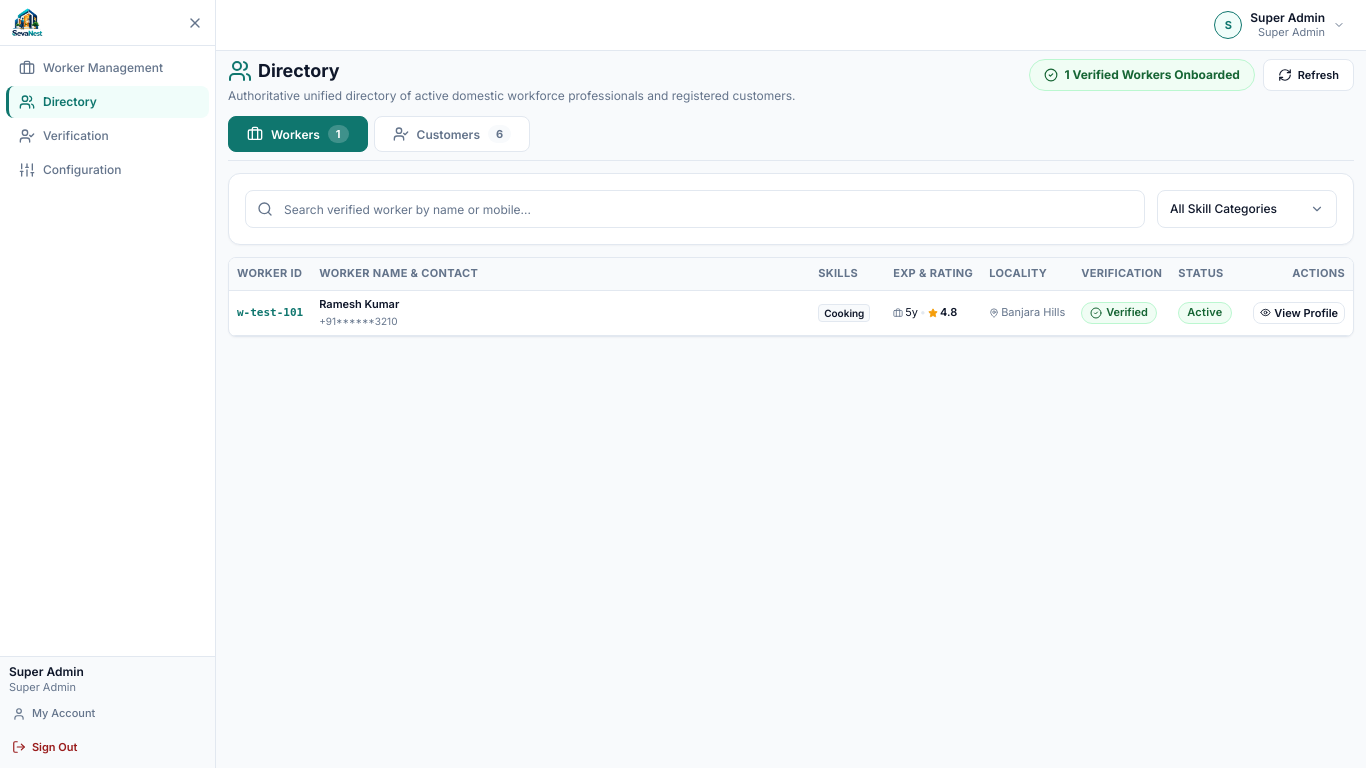
Worker Profile Navigation & History Preservation › 1. Directory → Worker Profile → Profile Tab (Their Work) → Verification Dossier → Application Back button returns to the same profile tab
The image size is (1366, 768).
# Find worker row and click View Profile
Click the button with aria-label "View Profile" at (791, 313), box [229,291,1353,335]
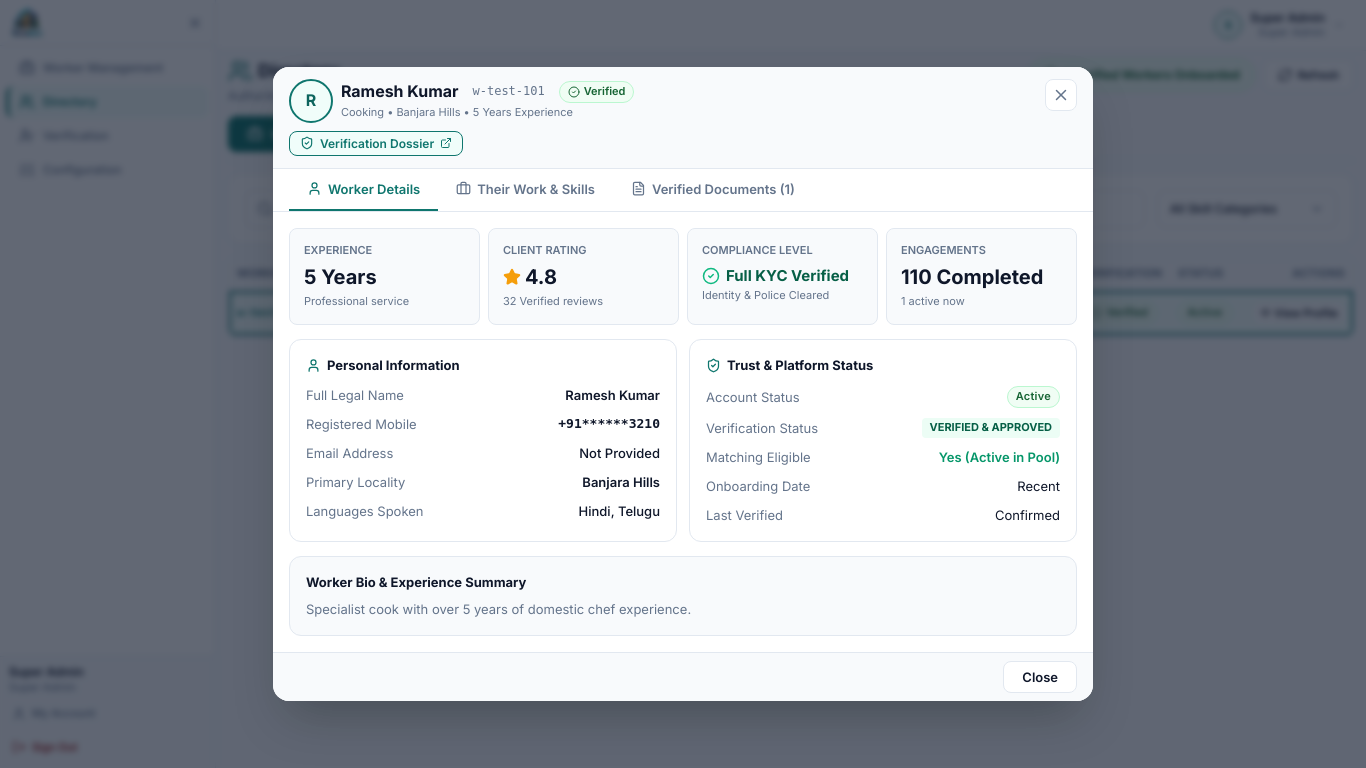
Check: the dialog is shown
Check: the text "Specialist cook with over 5 years of domestic chef experience." is shown, box [306,601,691,617]
# Switch to tab 2: Their Work & Skills
Click the tab "Their Work & Skills" at (526, 190), box [438,169,613,211]
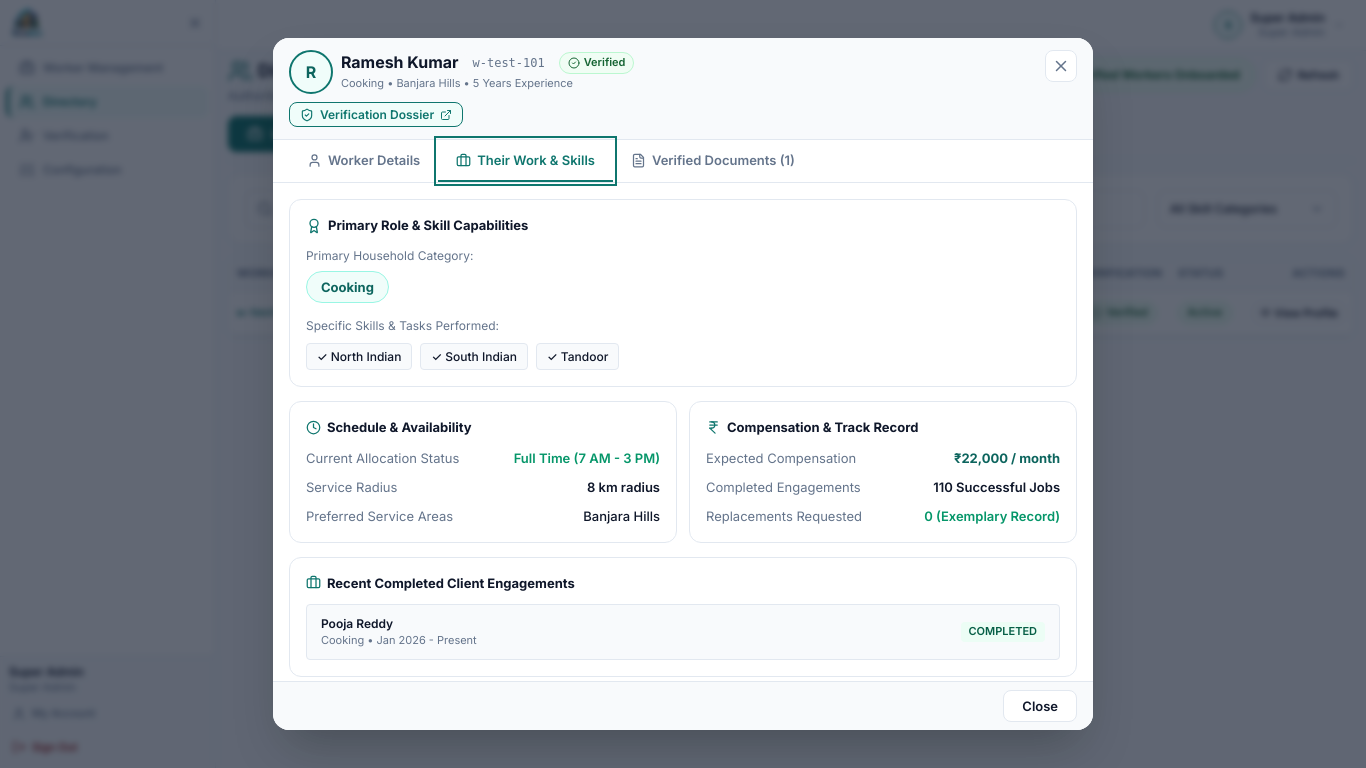
Check: the text "✓ North Indian" is shown, box [306,343,412,370]
# Click "Verification Dossier"
Click the button with test id "open-verification-dossier-btn" at (376, 115), box [289,102,463,127]
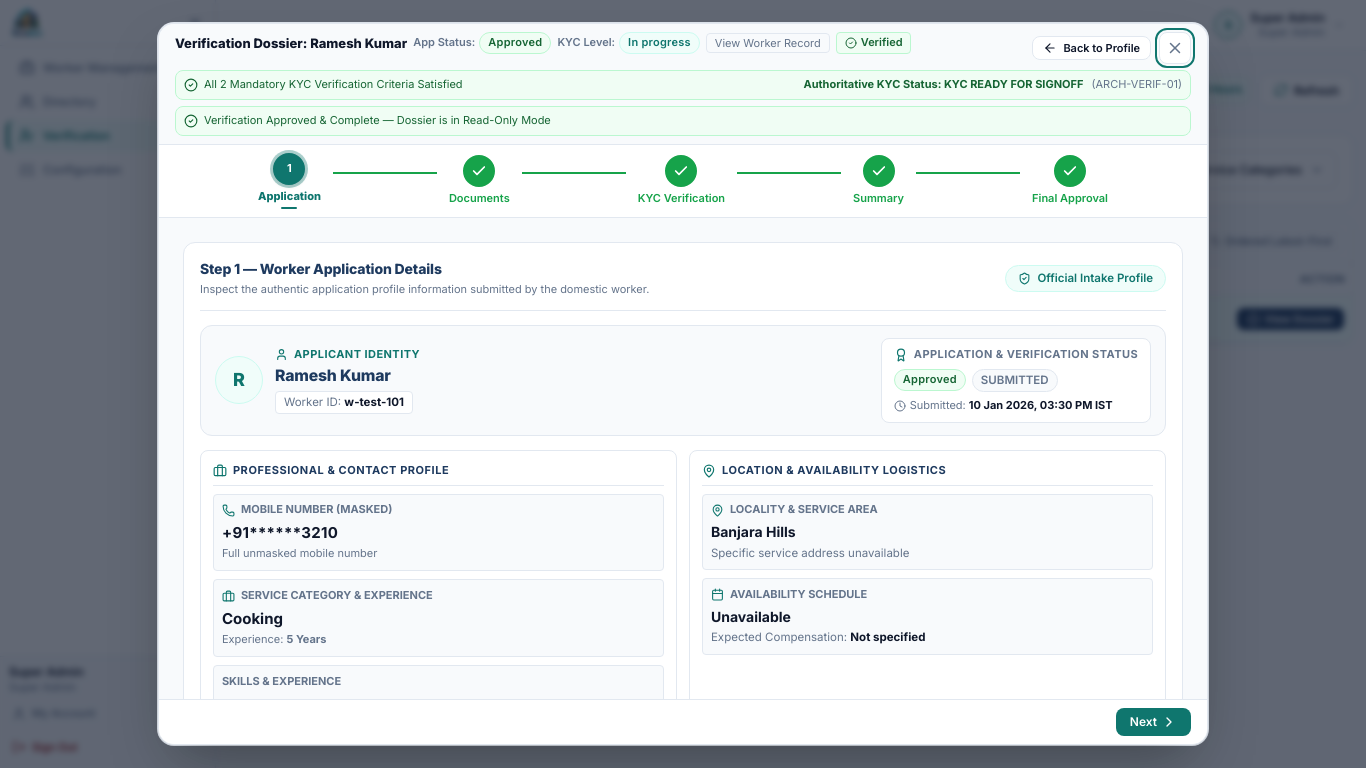
Check: the heading "Verification Dossier: Ramesh Kumar" is shown, box [175,34,407,51]
# Click application's Back to Profile button in dossier header
Click the button with test id "dossier-back-to-profile-btn" at (1092, 48), box [1032,36,1151,60]
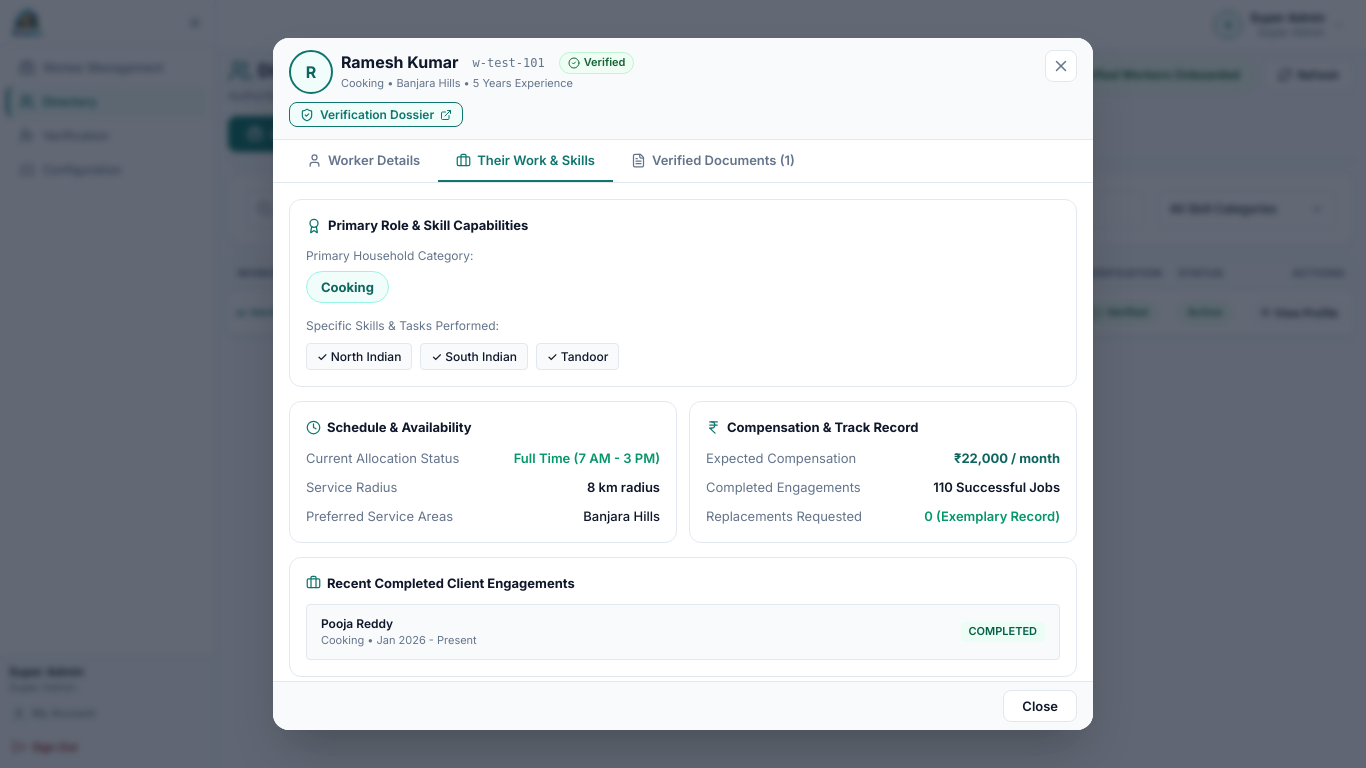
Check: the dialog is shown
Check: the text "✓ North Indian" is shown, box [306,343,412,370]
